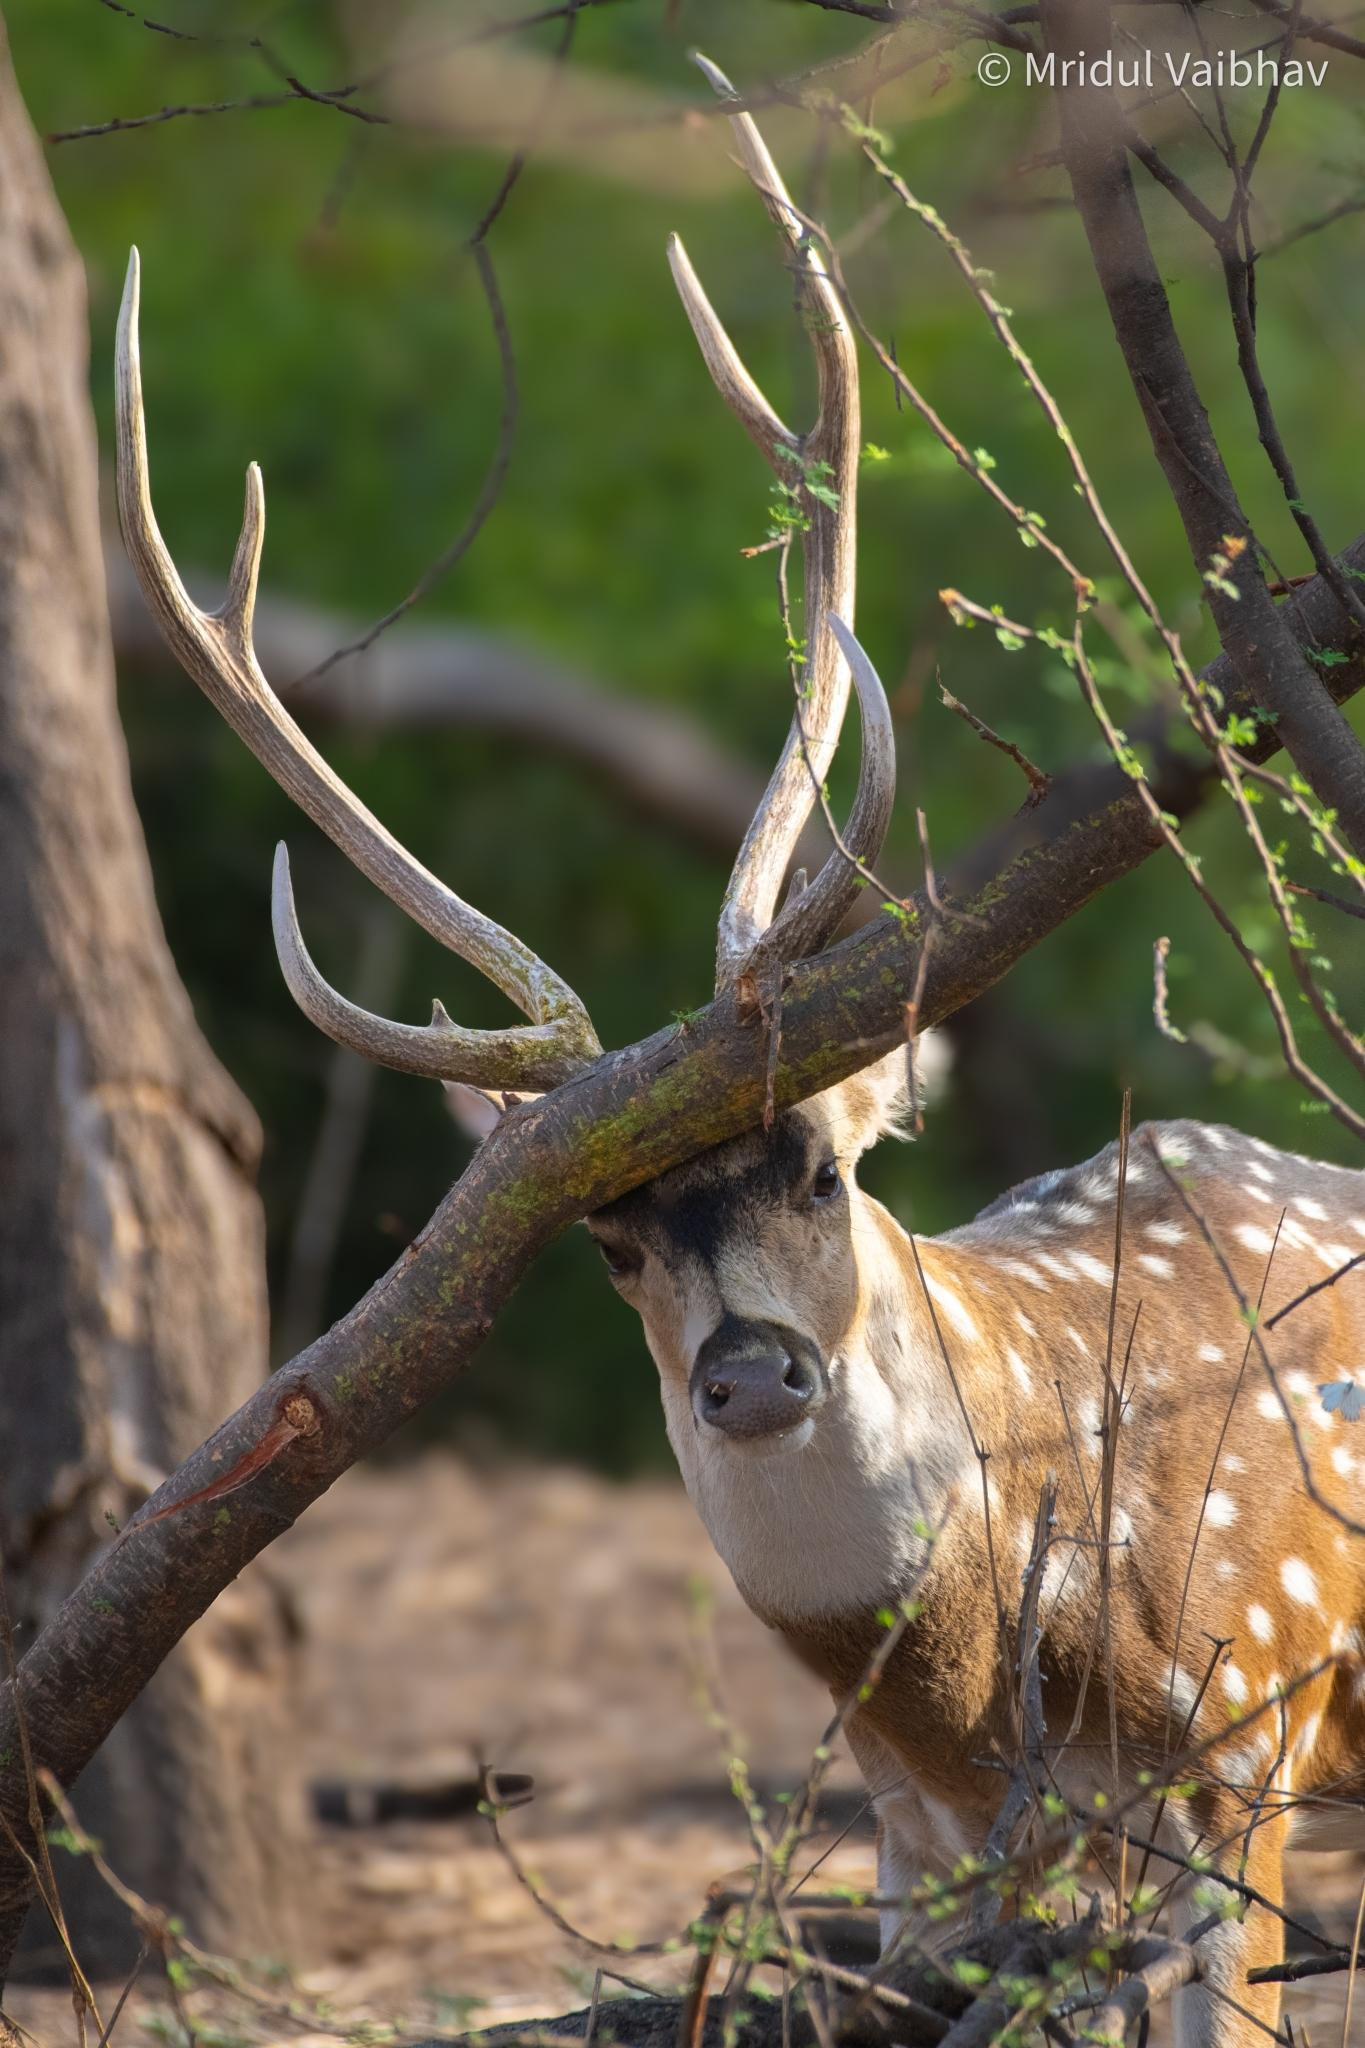Deer: (587, 1048, 1363, 2046)
